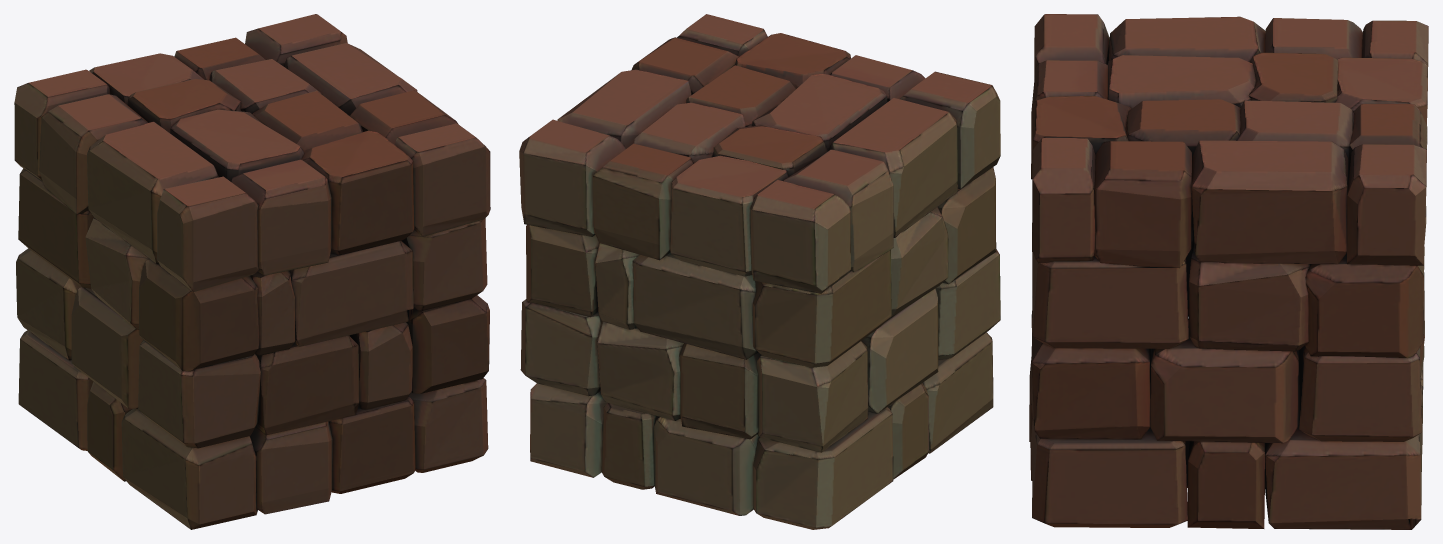
3 renders of one model, left to right at view 1: azimuth 30°, elevation 25°; view 2: azimuth 150°, elevation 25°; view 3: azimuth 270°, elevation 25°, orthographic. The views are drawn at different scales.
Parts seen in each view (by area): view 1: Stone_Cube_Animated.003; view 2: Stone_Cube_Animated.003; view 3: Stone_Cube_Animated.003.
Boxes of the visible parts, <box> form: Stone_Cube_Animated.003: <box>14,14,490,529</box>; Stone_Cube_Animated.003: <box>519,14,1000,529</box>; Stone_Cube_Animated.003: <box>1029,14,1428,529</box>.
Bounding box in the file's own units: 0.2071 × 0.2066 × 0.209.
1 material, 1 textured.
